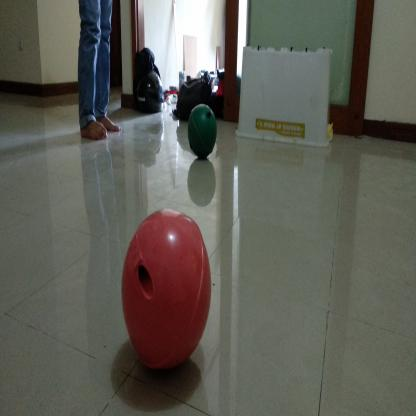green_buoy: (187, 103, 216, 163)
red_buoy: (118, 206, 212, 378)
